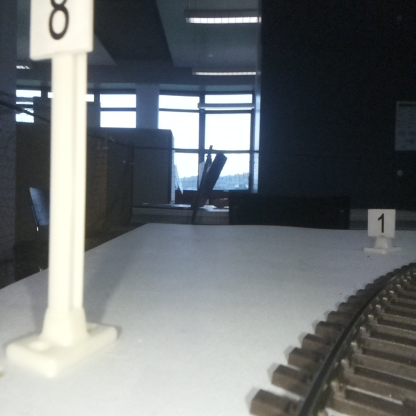white-info-8: (31, 1, 92, 360)
white-stop-1: (367, 208, 395, 251)
